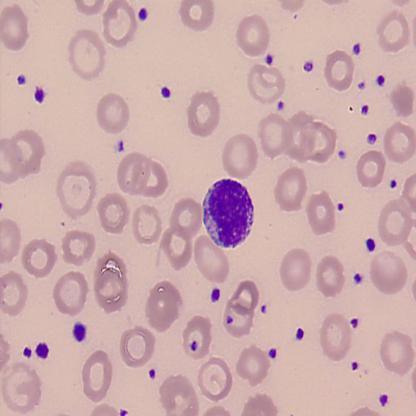Myelocyte: (200, 177, 256, 248)
